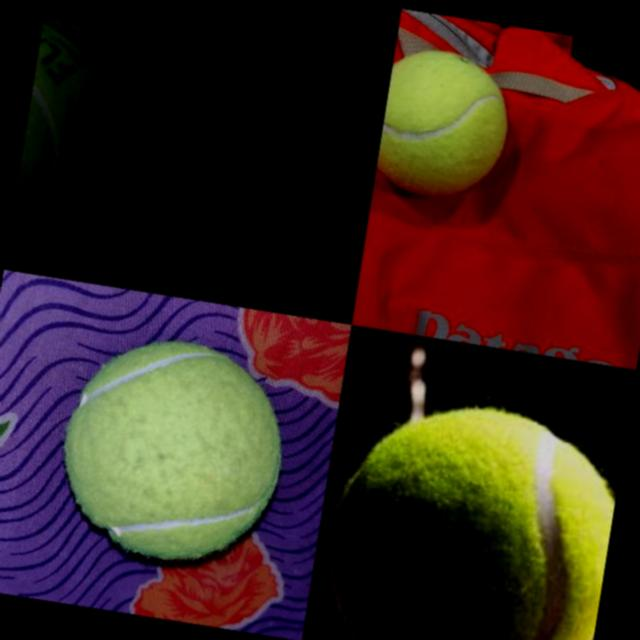tennis-ball: (309, 383, 626, 640), (46, 324, 298, 574), (15, 15, 146, 216), (373, 42, 520, 210)
